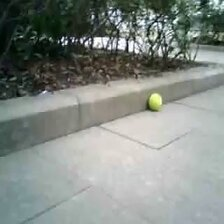tennis: (147, 92, 163, 108)
